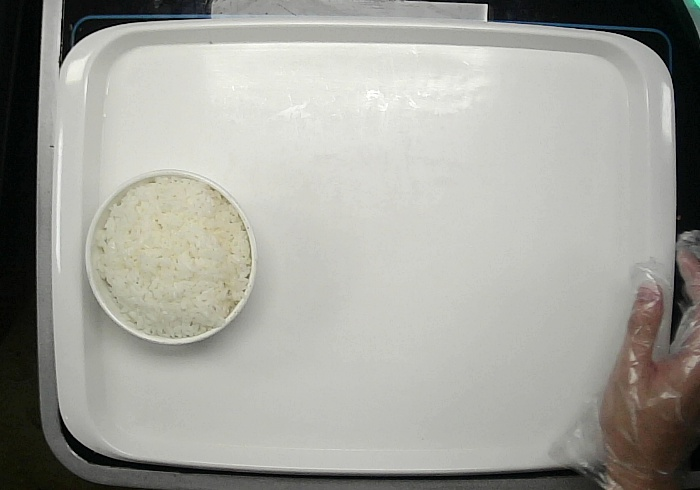HZYJPL-Fan_Wan: (84, 170, 258, 346)
